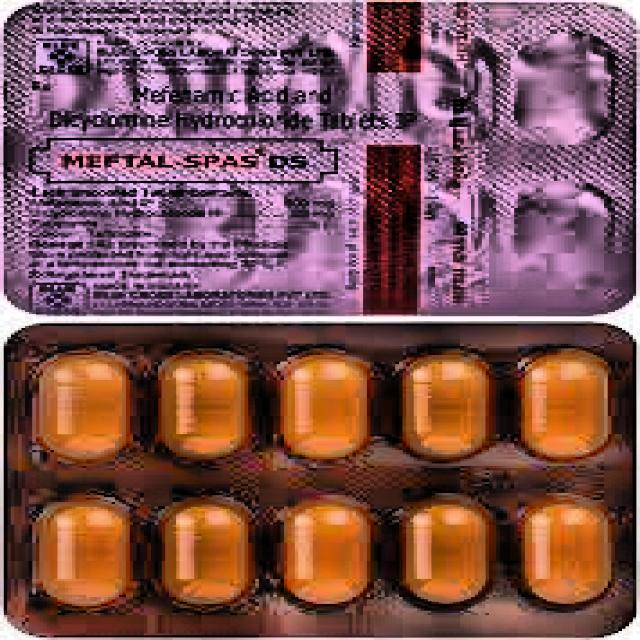Meftal: (19, 124, 348, 211)
